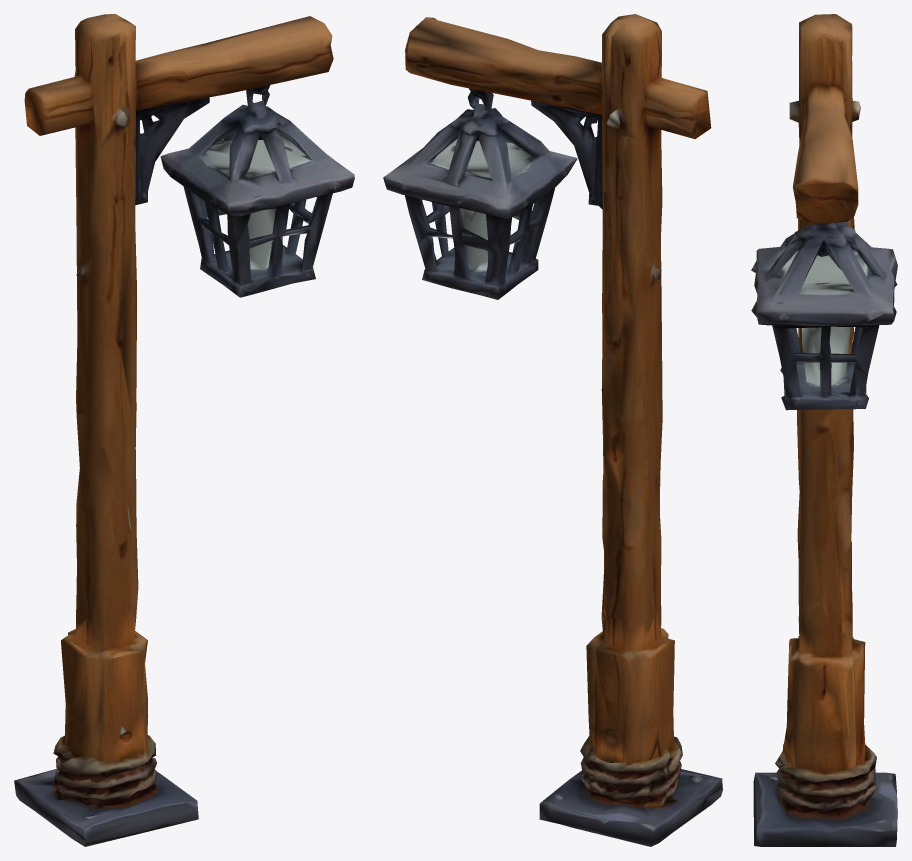
File: env-lamppost.glb
3 views of the same model, side by side, from view 1: azimuth 30°, elevation 25°; view 2: azimuth 150°, elevation 25°; view 3: azimuth 270°, elevation 25° (orthographic).
Visible parts, largest first — view 1: tripo_node_b421ab63-e81f-40b2-8cf5-e13db52f3e7c; view 2: tripo_node_b421ab63-e81f-40b2-8cf5-e13db52f3e7c; view 3: tripo_node_b421ab63-e81f-40b2-8cf5-e13db52f3e7c.
Part boxes in pixels (x1,y1,x2,y2): tripo_node_b421ab63-e81f-40b2-8cf5-e13db52f3e7c: (14,14,354,846); tripo_node_b421ab63-e81f-40b2-8cf5-e13db52f3e7c: (383,14,722,846); tripo_node_b421ab63-e81f-40b2-8cf5-e13db52f3e7c: (751,14,897,846).
Size of the model in its own units: 0.3868 by 0.9997 by 0.1667.
1 material, 1 textured.
